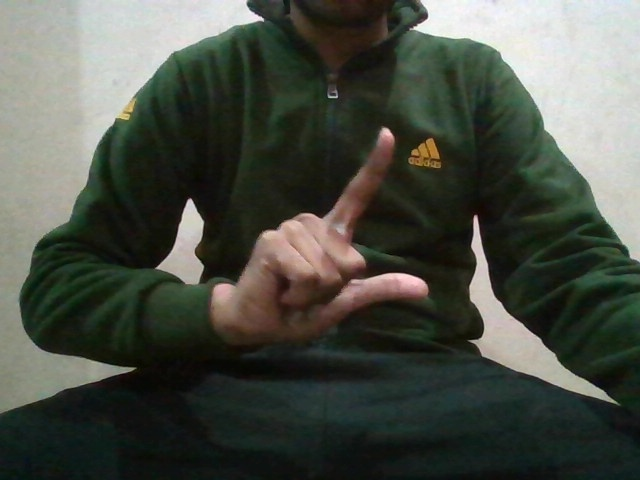L: (241, 124, 437, 340)
